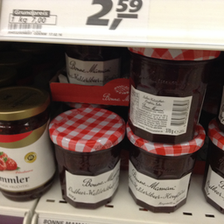jam: (127, 47, 220, 144), (48, 106, 126, 209), (125, 121, 207, 213), (1, 87, 55, 203)
